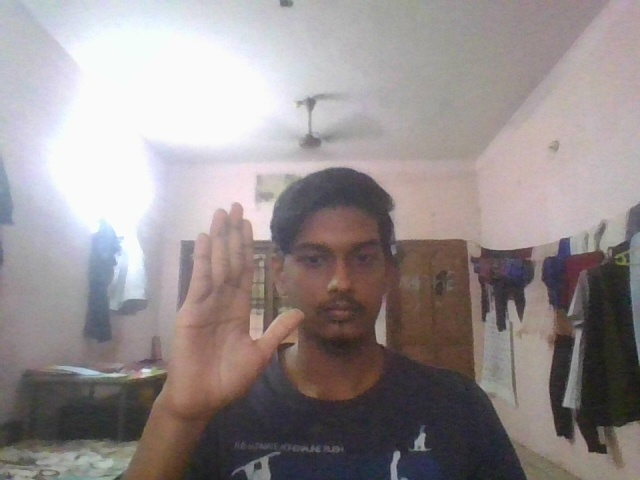hello: (160, 200, 309, 418)
